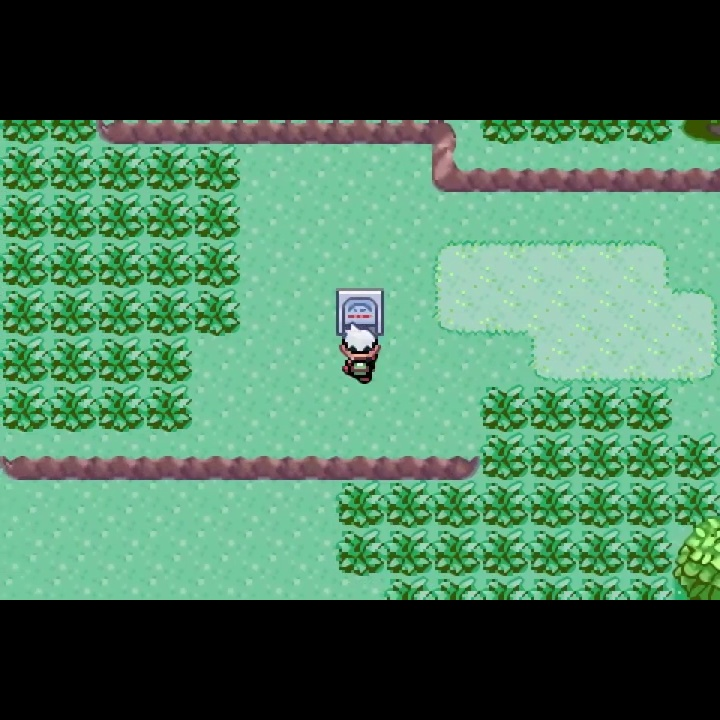grass: (334, 479, 385, 530), (623, 479, 673, 531), (431, 527, 481, 578), (383, 479, 433, 529), (192, 287, 242, 337), (144, 239, 193, 290), (577, 383, 625, 435), (576, 480, 625, 530), (479, 528, 528, 578), (193, 240, 242, 290), (144, 336, 194, 385), (145, 192, 194, 242), (96, 192, 146, 241), (481, 432, 530, 481), (144, 384, 193, 433), (145, 144, 194, 193), (48, 192, 97, 241), (49, 241, 98, 290), (96, 289, 145, 338), (97, 241, 146, 290), (529, 383, 577, 433), (624, 432, 672, 482), (335, 530, 385, 578), (577, 433, 625, 482), (530, 433, 579, 481), (481, 480, 529, 529), (672, 433, 720, 482), (623, 529, 672, 577), (1, 144, 49, 193), (1, 240, 49, 289), (49, 145, 97, 194), (48, 289, 97, 337), (48, 336, 96, 385), (48, 384, 96, 433), (97, 385, 145, 434), (479, 384, 529, 431), (433, 479, 480, 529), (529, 479, 576, 529), (673, 481, 720, 531), (529, 527, 576, 577), (575, 529, 625, 576), (193, 144, 243, 191), (1, 335, 48, 385), (625, 385, 673, 433), (1, 192, 49, 240), (96, 336, 144, 384), (193, 193, 242, 240), (146, 288, 193, 337), (384, 529, 431, 577), (1, 384, 48, 432), (97, 145, 144, 193), (1, 289, 48, 336), (625, 120, 671, 151), (527, 575, 577, 600), (623, 574, 673, 599), (431, 575, 483, 599), (480, 120, 529, 145), (1, 120, 48, 145), (577, 120, 625, 144), (576, 576, 624, 600), (482, 575, 528, 600), (529, 120, 576, 144), (49, 120, 96, 144), (384, 577, 433, 599)
npc: (336, 322, 384, 389)
wall: (673, 518, 720, 600)
